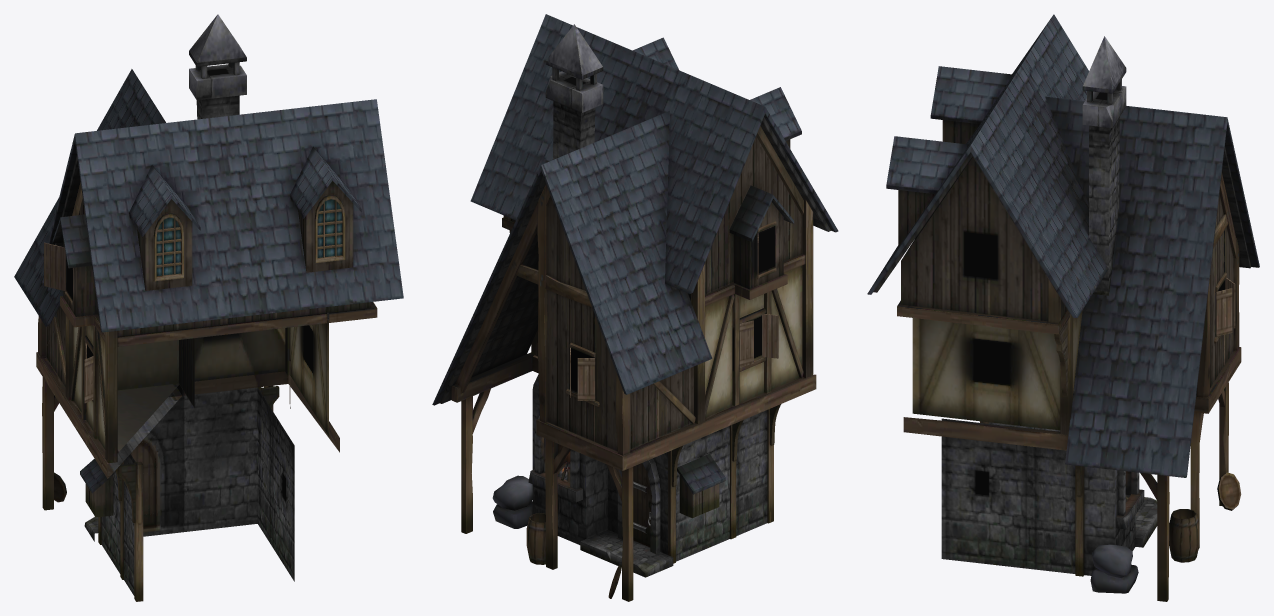
The model's file is Medieval_Building_01.fbx.
3 renders of one model, left to right at view 1: azimuth 30°, elevation 25°; view 2: azimuth 150°, elevation 25°; view 3: azimuth 270°, elevation 25°, orthographic. The views are drawn at different scales.
Parts seen in each view (by area): view 1: building01; view 2: building01; view 3: building01.
Boxes of the visible parts, box(x1,y1,x2,y2) form: building01: box(14, 14, 403, 601); building01: box(432, 14, 838, 601); building01: box(867, 14, 1259, 601).
Size of the model in its own units: 27.17 by 42.85 by 29.11.
Materials: 1 (1 with a texture image).
